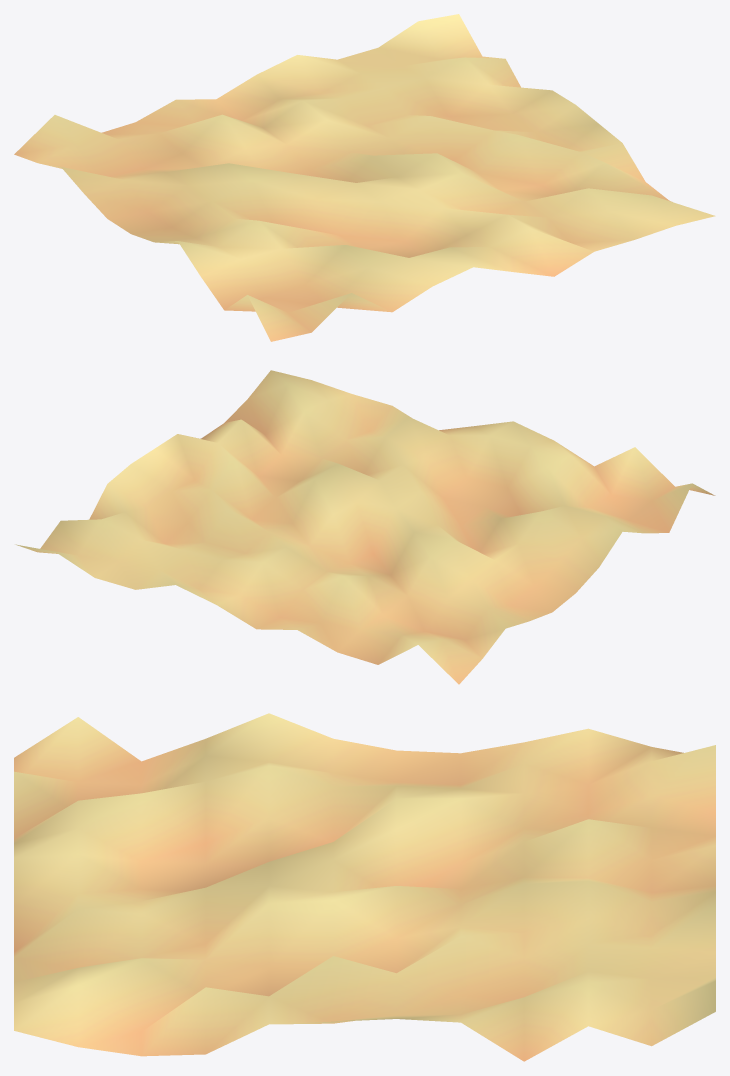
Rendered from Insiders.fbx.
3 views of the same model, one above another, from view 1: azimuth 30°, elevation 25°; view 2: azimuth 150°, elevation 25°; view 3: azimuth 270°, elevation 25° (orthographic). The views are drawn at different scales.
Visible parts, largest first — view 1: Insiders; view 2: Insiders; view 3: Insiders.
Part boxes in pixels (x1,y1,x2,y2): Insiders: (14, 14, 715, 341); Insiders: (15, 370, 715, 684); Insiders: (14, 713, 715, 1061).
Size of the model in its own units: 253 by 21.37 by 253.
